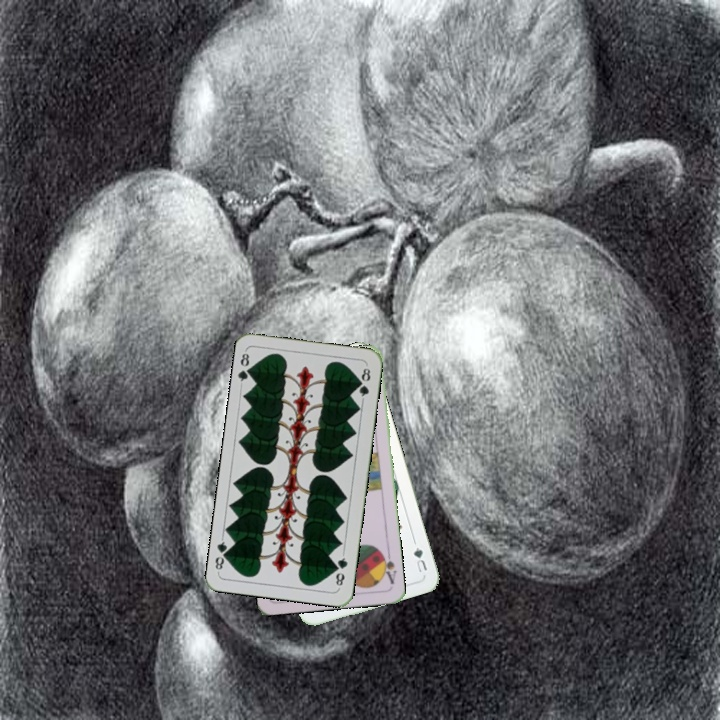G8: (234, 347, 256, 388), (331, 550, 350, 590)
GU: (409, 543, 430, 575)
SA: (377, 547, 399, 587)
